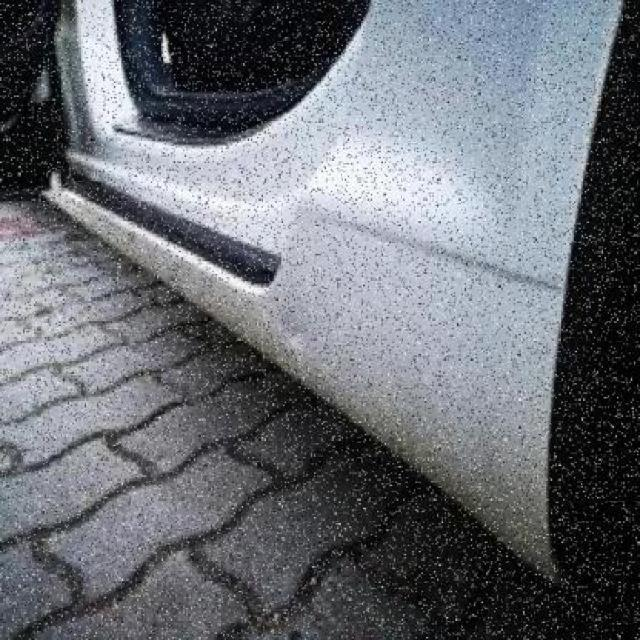RunningBoard-Dent: (52, 171, 288, 293)
